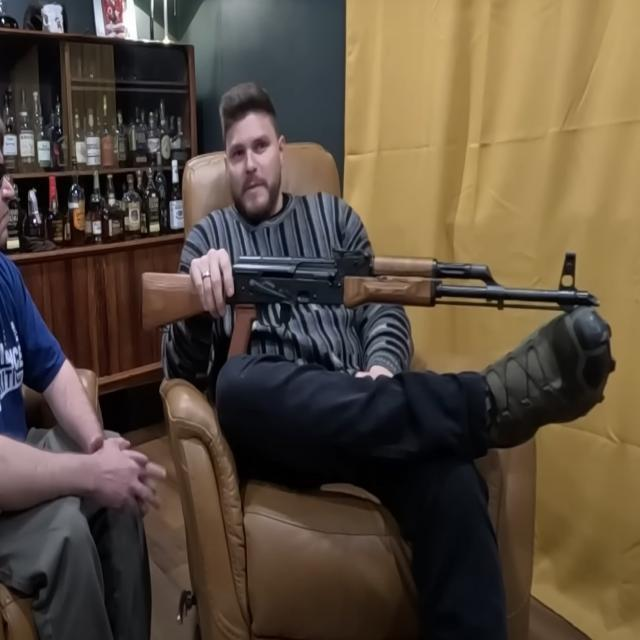ak: (136, 225, 604, 388)
